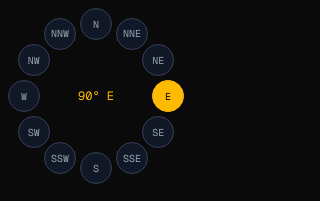
Test: AntennaControl › direction change › updates the active direction label after a successful rotate
Click 120° (one step clockwise from 90°)
Step 1. Click the button with aria-label "120°" → {"x": 158, "y": 132}, box x1=142 y1=116 x2=174 y2=148
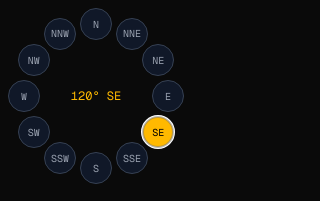
Expected: the text "120° SE" is shown, x1=71 y1=88 x2=121 y2=104
